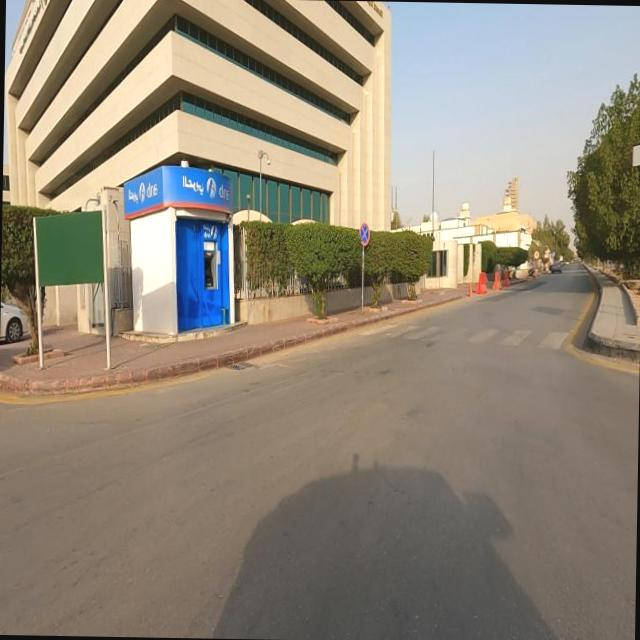debris: (334, 189, 396, 279)
